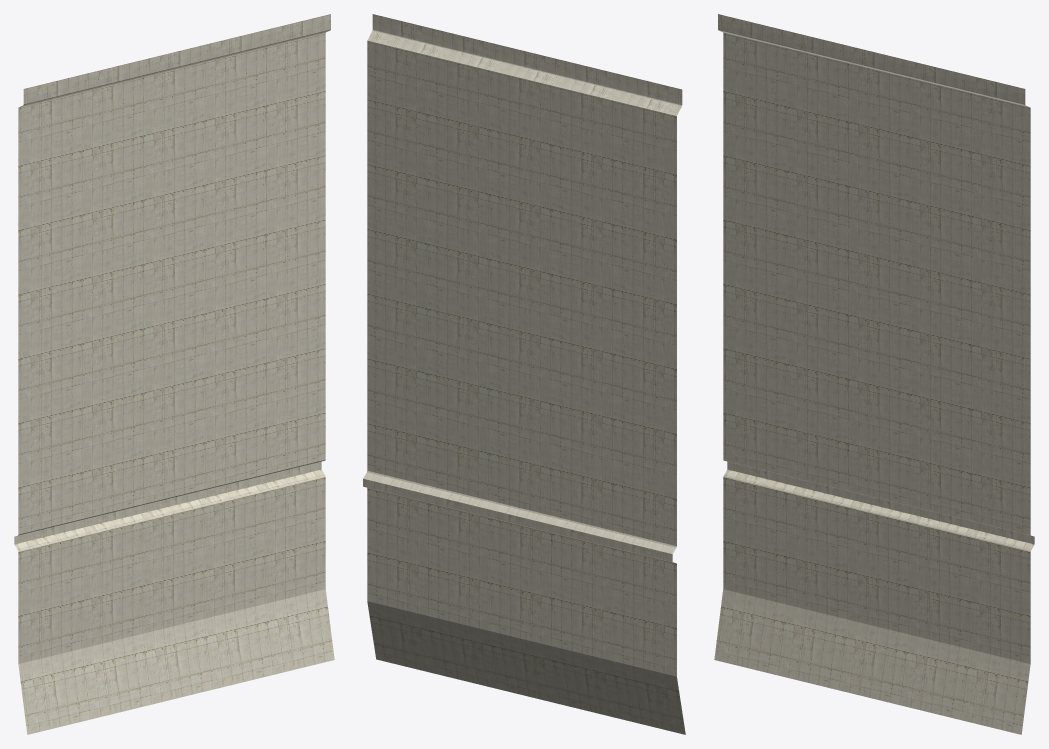
Rendered from M_Wall_10x20_Texture Test.fbx.
The picture shows the model from 3 angles, left to right: view 1: azimuth 30°, elevation 25°; view 2: azimuth 150°, elevation 25°; view 3: azimuth 330°, elevation 25°; orthographic projection.
Parts seen in each view (by area): view 1: Wall_Straight_10x20; view 2: Wall_Straight_10x20; view 3: Wall_Straight_10x20.
Boxes of the visible parts, box(x1,y1,x2,y2) form: Wall_Straight_10x20: box(14, 14, 334, 734); Wall_Straight_10x20: box(363, 14, 685, 734); Wall_Straight_10x20: box(714, 14, 1034, 734).
Bounding box in the file's own units: 1000 × 2000 × 73.02.
